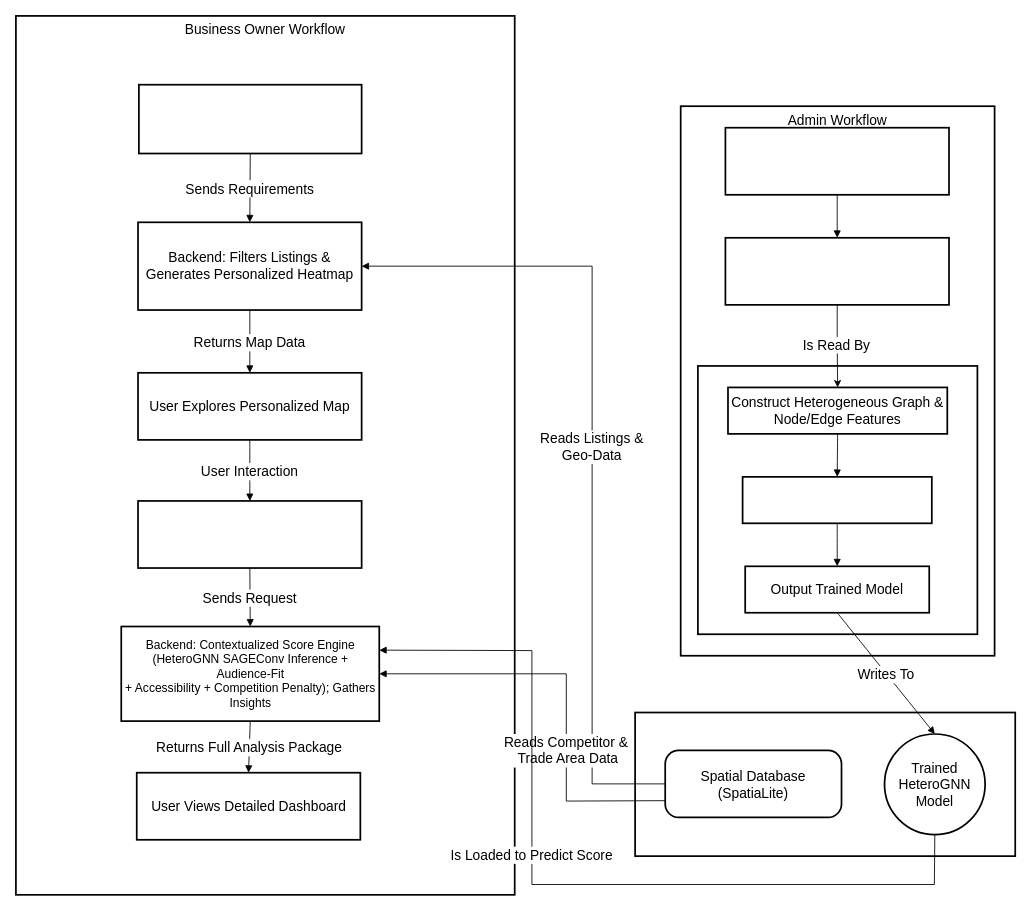
Image size: 1030x910. Some labels were removed from this diagram. The box of each missing label's shape, as (x1, y1, x2, y2) in pixels:
Collect Geospatial, Demographic & Listing Data: (724, 126, 949, 195)
Populate and Maintain Relational Database: (724, 236, 949, 305)
System Core Assets: (634, 711, 1016, 857)
Train HeteroGNN (HeteroGAT) Model: (741, 476, 932, 524)
User Defines Requirements (Cafe Type, Audience, Pricing, Scale, etc.): (138, 83, 362, 154)
User Selects a Point for Deep Analysis: (137, 500, 362, 568)
